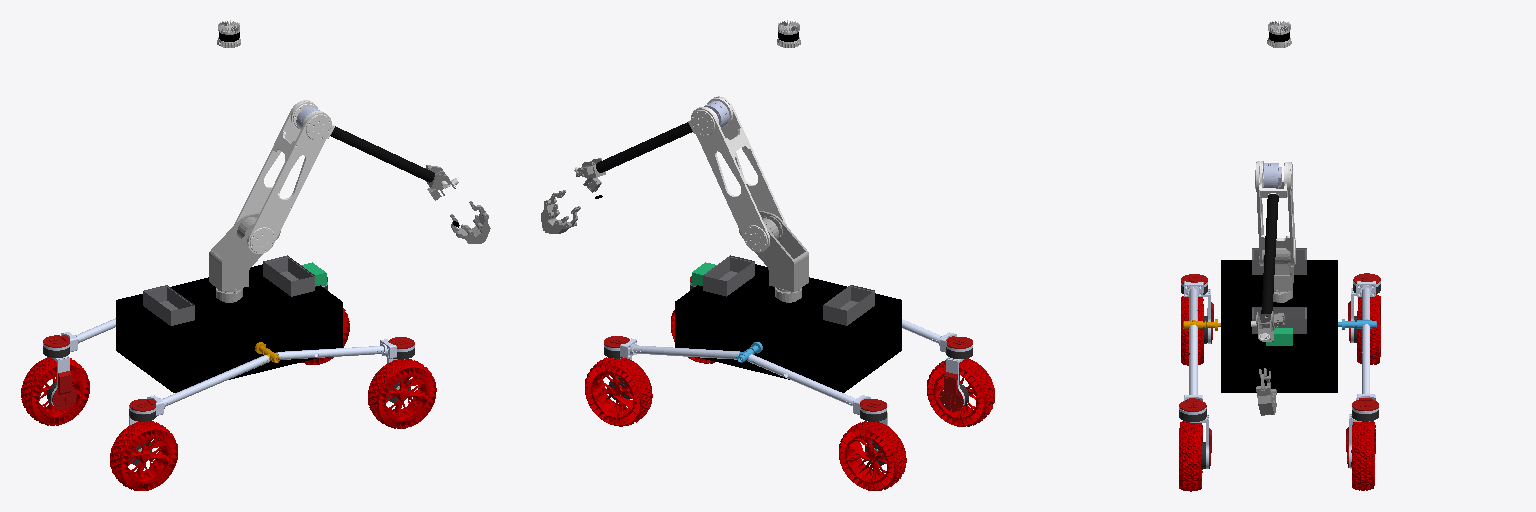
--- Render facts (derived) ---
Views: 3 orthographic renders of the robot side by side, from view 1: azimuth 30°, elevation 25°; view 2: azimuth 150°, elevation 25°; view 3: azimuth 270°, elevation 25°.
Model morpheus_rover with 29 links and 28 joints (14 revolute, 4 continuous, 10 fixed), rooted at chassis_link, posed every joint at zero.
Links seen in each view (by area): view 1: chassis_link, shoulder_link, wheel_rr_link, wheel_fr_link, arm_base_link, wheel_rl_link, elbow_link, strut_rr_link, strut_fr_link, sample_box_1_link, sample_box_2_link, strut_rl_link (+2 smaller); view 2: chassis_link, shoulder_link, wheel_rl_link, wheel_fl_link, arm_base_link, wheel_rr_link, elbow_link, strut_rl_link, strut_fl_link, sample_box_1_link, sample_box_2_link, strut_rr_link (+2 smaller); view 3: chassis_link, elbow_link, wheel_fl_link, wheel_fr_link, strut_fr_link, shoulder_link, strut_fl_link, arm_base_link, wheel_rl_link, wheel_rr_link, sample_box_1_link, strut_rr_link (+3 smaller).
Link boxes in pixels (x1,y1,x2,y2): chassis_link: (116,264,342,392); shoulder_link: (234,100,331,253); wheel_rr_link: (110,421,177,490); wheel_fr_link: (368,359,436,428); arm_base_link: (209,212,280,302); wheel_rl_link: (21,357,89,425); elbow_link: (291,101,434,182); strut_rr_link: (129,355,269,421); strut_fr_link: (276,337,414,359); sample_box_1_link: (263,255,314,296); sample_box_2_link: (143,285,194,325); strut_rl_link: (43,318,115,357); chassis_link: (675,264,901,392); shoulder_link: (691,96,786,252); wheel_rl_link: (839,421,906,490); wheel_fl_link: (585,357,652,426); arm_base_link: (739,211,808,302); wheel_rr_link: (927,358,994,426); elbow_link: (596,98,732,172); strut_rl_link: (748,354,886,421); strut_fl_link: (604,336,739,359); sample_box_1_link: (703,255,754,296); sample_box_2_link: (823,285,874,325); strut_rr_link: (902,319,972,358); chassis_link: (1221,260,1337,392); elbow_link: (1259,161,1287,316); wheel_fl_link: (1351,421,1375,490); wheel_fr_link: (1179,421,1202,491); strut_fr_link: (1179,325,1206,421); shoulder_link: (1255,161,1295,266); strut_fl_link: (1352,324,1378,421); arm_base_link: (1263,248,1293,302); wheel_rl_link: (1357,294,1380,364); wheel_rr_link: (1181,296,1203,365); sample_box_1_link: (1252,307,1306,333); strut_rr_link: (1181,274,1207,320).
Size in the robot's own frame: 1.71 by 0.728 by 1.59 metres.
Meshes: 15 distinct files referenced, 24 mesh visuals loaded (4 binary STL, 9 Collada DAE); not drawn: 2 (reference not matched to a file when rendering).

The robot description file, URDF, robot "morpheus_rover":
<?xml version="1.0" ?>
<!-- =================================================================================== -->
<!-- |    This document was autogenerated by xacro from robot.xacro                    | -->
<!-- |    EDITING THIS FILE BY HAND IS NOT RECOMMENDED                                 | -->
<!-- =================================================================================== -->
<robot name="morpheus_rover">
  <link name="chassis_link">
    <visual>
      <origin rpy="0.0 0.0 0.0" xyz="0.0 0.0 -0.12"/>
      <geometry>
        <box size="0.7 0.42 0.2"/>
      </geometry>
      <material name="">
        <color rgba="0.0 0.0 0.0 1.0"/>
      </material>
    </visual>
    <collision>
      <origin rpy="0.0 0.0 0.0" xyz="0.0 0.0 -0.12"/>
      <geometry>
        <box size="0.7 0.42 0.2"/>
      </geometry>
    </collision>
    <inertial>
      <origin xyz="-0.0037041613 0.0428197174 -0.1106721127"/>
      <mass value="27.0"/>
      <inertia ixx="0.6797017835" ixy="-0.0079907052" ixz="0.0127828566" iyy="1.2877765418" iyz="0.0117679376" izz="1.6878998816"/>
    </inertial>
  </link>
  <link name="shaft_left_link">
    <visual>
      <origin rpy="-1.5707963267948966 -1.5707963267948966 0.0" xyz="-0.1 0.0 -0.231"/>
      <geometry>
        <mesh filename="package://morpheus_description/urdf/01_robot_description/meshes/stl/shaft.stl"/>
      </geometry>
    </visual>
    <collision>
      <origin rpy="-1.571 -1.5707999999991324 0.0" xyz="-0.1 0.0 -0.231014"/>
      <geometry>
        <mesh filename="package://morpheus_description/urdf/01_robot_description/meshes/stl/shaft.stl"/>
      </geometry>
    </collision>
    <inertial>
      <origin xyz="-0.0002091194 1.32101e-05 0.0184469812"/>
      <mass value="0.75"/>
      <inertia ixx="0.0012178097" ixy="-5.6e-09" ixz="2.83456e-05" iyy="0.0008777415" iyz="1.4e-09" izz="0.0004882588"/>
    </inertial>
  </link>
  <joint name="shaft_left_joint" type="revolute">
    <origin rpy="1.5707999999991324 -1.5707900000007928 -3.1415899999999253" xyz="0.0 0.235014 -0.113"/>
    <parent link="chassis_link"/>
    <child link="shaft_left_link"/>
    <axis xyz="0.0 0.0 1.0"/>
    <limit effort="10.0" lower="-3.141592653589793" upper="3.141592653589793" velocity="10.0"/>
    <dynamics damping="0.7" friction="0.0"/>
  </joint>
  <link name="strut_fl_link">
    <visual>
      <origin rpy="-1.5707963267948966 -1.5707963267948966 0.0" xyz="-0.095 -0.03 -0.321"/>
      <geometry>
        <mesh filename="package://morpheus_description/urdf/01_robot_description/meshes/dae/strut.dae"/>
      </geometry>
    </visual>
    <collision>
      <origin rpy="-1.571 -1.5707999999991324 0.0" xyz="-0.0947906 -0.0295442 -0.320703"/>
      <geometry>
        <mesh filename="package://morpheus_description/urdf/01_robot_description/meshes/stl/strut.stl"/>
      </geometry>
    </collision>
    <inertial>
      <origin xyz="-0.0739820888 0.4431306277 -0.0142543342"/>
      <mass value="0.6"/>
      <inertia ixx="0.0120960241" ixy="0.0019557104" ixz="-1.01651e-05" iyy="0.0007162043" iyz="5.93325e-05" izz="0.0122581859"/>
    </inertial>
  </link>
  <joint name="strut_fl_joint" type="fixed">
    <origin rpy="0.0 0.0 0.0" xyz="-0.00520945 0.0295442 0.0899929"/>
    <parent link="shaft_left_link"/>
    <child link="strut_fl_link"/>
  </joint>
  <link name="steering_fl_link">
    <visual>
      <origin rpy="1.5707963267948966 0.0012042771838760874 0.0" xyz="-0.308 0.536 0.017"/>
      <geometry>
        <mesh filename="package://morpheus_description/urdf/01_robot_description/meshes/dae/steering.dae"/>
      </geometry>
    </visual>
    <collision>
      <origin rpy="1.571 0.0012006700002099185 0.0" xyz="-0.308035 0.536061 0.0167576"/>
      <geometry>
        <mesh filename="package://morpheus_description/urdf/01_robot_description/meshes/stl/steering.stl"/>
      </geometry>
    </collision>
    <inertial>
      <origin xyz="0.0004367622 0.0434819885 -0.1159842788"/>
      <mass value="1.6"/>
      <inertia ixx="0.0052279077" ixy="1.8091e-06" ixz="1.3286e-05" iyy="0.0053004683" iyz="0.0005027067" izz="0.0014735517"/>
    </inertial>
  </link>
  <joint name="steering_fl_joint" type="revolute">
    <origin rpy="-1.5695999999994064 -0.0015880299992990737 -1.5707999999991324" xyz="-0.111216 0.504597 -0.0155261"/>
    <parent link="strut_fl_link"/>
    <child link="steering_fl_link"/>
    <axis xyz="0.0 0.0 1.0"/>
    <limit effort="10.0" lower="-3.141592653589793" upper="3.141592653589793" velocity="10.0"/>
    <dynamics damping="0.7" friction="0.0"/>
  </joint>
  <link name="wheel_fl_link">
    <visual>
      <origin rpy="0.0 0.0 0.0" xyz="0.0 0.0 -0.04"/>
      <geometry>
        <mesh filename="package://morpheus_description/urdf/01_robot_description/meshes/dae/wheel.dae"/>
      </geometry>
    </visual>
    <collision>
      <origin rpy="0.0 0.0 0.0" xyz="0.0 0.0 -0.04"/>
      <geometry>
        <mesh filename="package://morpheus_description/urdf/01_robot_description/meshes/stl/wheel.stl"/>
      </geometry>
    </collision>
    <inertial>
      <origin xyz="0.0 -0.0002387564 -0.04"/>
      <mass value="1.4"/>
      <inertia ixx="0.0062960167" ixy="0.0" ixz="-1.7e-09" iyy="0.0062960234" iyz="0.0" izz="0.0111555186"/>
    </inertial>
  </link>
  <joint name="wheel_fl_joint" type="continuous">
    <origin rpy="1.5707999999991324 0.002023000000786 -0.026182653588951874" xyz="0.000859913 -0.0328387 -0.152"/>
    <parent link="steering_fl_link"/>
    <child link="wheel_fl_link"/>
    <axis xyz="0.0 0.0 1.0"/>
    <limit effort="10.0" lower="0.0" upper="0.0" velocity="10.0"/>
    <dynamics damping="0.0" friction="0.0"/>
  </joint>
  <link name="strut_rl_link">
    <visual>
      <origin rpy="-1.5707963267948966 -1.5707963267948966 0.0" xyz="-0.095 -0.03 -0.295"/>
      <geometry>
        <mesh filename="package://morpheus_description/urdf/01_robot_description/meshes/dae/strut.dae"/>
      </geometry>
    </visual>
    <collision>
      <origin rpy="-1.571 -1.5707999999991324 0.0" xyz="-0.0947906 -0.0295442 -0.295326"/>
      <geometry>
        <mesh filename="package://morpheus_description/urdf/01_robot_description/meshes/stl/strut.stl"/>
      </geometry>
    </collision>
    <inertial>
      <origin xyz="-0.0756316965 0.4736684486 0.0110207527"/>
      <mass value="0.6"/>
      <inertia ixx="0.0120903014" ixy="0.0019549161" ixz="-1.01621e-05" iyy="0.000716067" iyz="5.92839e-05" izz="0.0122522986"/>
    </inertial>
  </link>
  <joint name="strut_rl_joint" type="fixed">
    <origin rpy="3.1415899999999253 0.0 0.0" xyz="-0.00520945 -0.0295443 0.0899929"/>
    <parent link="shaft_left_link"/>
    <child link="strut_rl_link"/>
  </joint>
  <link name="steering_rl_link">
    <visual>
      <origin rpy="1.5707963267948966 0.0012042771838760874 0.0" xyz="-0.308 0.536 0.017"/>
      <geometry>
        <mesh filename="package://morpheus_description/urdf/01_robot_description/meshes/dae/steering.dae"/>
      </geometry>
    </visual>
    <collision>
      <origin rpy="1.571 0.0012006700002099185 0.0" xyz="-0.308035 0.536061 0.0167576"/>
      <geometry>
        <mesh filename="package://morpheus_description/urdf/01_robot_description/meshes/stl/steering.stl"/>
      </geometry>
    </collision>
    <inertial>
      <origin xyz="0.0004367622 0.0434819885 -0.1159842788"/>
      <mass value="1.6"/>
      <inertia ixx="0.0052279077" ixy="1.8091e-06" ixz="1.3286e-05" iyy="0.0053004683" iyz="0.0005027067" izz="0.0014735517"/>
    </inertial>
  </link>
  <joint name="steering_rl_joint" type="revolute">
    <origin rpy="1.5695999999994064 0.0015880299992990737 1.5707900000007928" xyz="-0.111216 0.504597 0.00985065"/>
    <parent link="strut_rl_link"/>
    <child link="steering_rl_link"/>
    <axis xyz="0.0 0.0 1.0"/>
    <limit effort="10.0" lower="-3.141592653589793" upper="3.141592653589793" velocity="10.0"/>
    <dynamics damping="0.7" friction="0.0"/>
  </joint>
  <link name="wheel_rl_link">
    <visual>
      <origin rpy="0.0 0.0 0.0" xyz="0.0 0.0 0.04"/>
      <geometry>
        <mesh filename="package://morpheus_description/urdf/01_robot_description/meshes/dae/wheel.dae"/>
      </geometry>
    </visual>
    <collision>
      <origin rpy="0.0 0.0 0.0" xyz="0.0 0.0 0.04"/>
      <geometry>
        <mesh filename="package://morpheus_description/urdf/01_robot_description/meshes/stl/wheel.stl"/>
      </geometry>
    </collision>
    <inertial>
      <origin xyz="0.0 -0.0002387564 0.04"/>
      <mass value="1.4"/>
      <inertia ixx="0.0062960167" ixy="0.0" ixz="-1.7e-09" iyy="0.0062960234" iyz="0.0" izz="0.0111555186"/>
    </inertial>
  </link>
  <joint name="wheel_rl_joint" type="continuous">
    <origin rpy="-1.5707999999991324 0.0020191899993887734 3.1154100000008413" xyz="0.000859913 0.0328387 -0.152"/>
    <parent link="steering_rl_link"/>
    <child link="wheel_rl_link"/>
    <axis xyz="0.0 0.0 1.0"/>
    <limit effort="10.0" lower="0.0" upper="0.0" velocity="10.0"/>
    <dynamics damping="0.0" friction="0.0"/>
  </joint>
  <link name="shaft_right_link">
    <visual>
      <origin rpy="-3.141592653589793 1.5707963267948966 0.0" xyz="0.0 0.1 0.231"/>
      <geometry>
        <mesh filename="package://morpheus_description/urdf/01_robot_description/meshes/stl/shaft.stl"/>
      </geometry>
    </visual>
    <collision>
      <origin rpy="-3.142 1.5707999999991324 0.0" xyz="0.0 0.1 0.231014"/>
      <geometry>
        <mesh filename="package://morpheus_description/urdf/01_robot_description/meshes/stl/shaft.stl"/>
      </geometry>
    </collision>
    <inertial>
      <origin xyz="-0.0002091194 1.32101e-05 0.0184469812"/>
      <mass value="0.75"/>
      <inertia ixx="0.0012178097" ixy="-5.6e-09" ixz="2.83456e-05" iyy="0.0008777415" iyz="1.4e-09" izz="0.0004882588"/>
    </inertial>
  </link>
  <joint name="shaft_right_joint" type="revolute">
    <origin rpy="-1.5707999999991324 0.0 0.0" xyz="8.1925e-05 -0.231256 -0.115299"/>
    <parent link="chassis_link"/>
    <child link="shaft_right_link"/>
    <axis xyz="0.0 0.0 1.0"/>
    <limit effort="10.0" lower="-3.141592653589793" upper="3.141592653589793" velocity="10.0"/>
    <dynamics damping="0.7" friction="0.0"/>
    <mimic joint="shaft_left_joint" multiplier="-1.0" offset="0.0"/>
  </joint>
  <link name="strut_fr_link">
    <visual>
      <origin rpy="-1.5707963267948966 -1.5707963267948966 0.0" xyz="-0.095 -0.03 -0.295"/>
      <geometry>
        <mesh filename="package://morpheus_description/urdf/01_robot_description/meshes/dae/strut.dae"/>
      </geometry>
    </visual>
    <collision>
      <origin rpy="-1.571 -1.5707999999991324 0.0" xyz="-0.0947906 -0.0295442 -0.295326"/>
      <geometry>
        <mesh filename="package://morpheus_description/urdf/01_robot_description/meshes/stl/strut.stl"/>
      </geometry>
    </collision>
    <inertial>
      <origin xyz="-0.0739820888 0.4431306277 0.0117456658"/>
      <mass value="0.6"/>
      <inertia ixx="0.0120960241" ixy="0.0019557104" ixz="-1.01651e-05" iyy="0.0007162043" iyz="5.93325e-05" izz="0.0122581859"/>
    </inertial>
  </link>
  <joint name="strut_fr_joint" type="fixed">
    <origin rpy="0.0 0.0 -1.5707999999991324" xyz="0.0295443 0.00520945 -0.0899929"/>
    <parent link="shaft_right_link"/>
    <child link="strut_fr_link"/>
  </joint>
  <link name="steering_fr_link">
    <visual>
      <origin rpy="1.5707963267948966 0.0012042771838760874 0.0" xyz="-0.308 0.536 0.017"/>
      <geometry>
        <mesh filename="package://morpheus_description/urdf/01_robot_description/meshes/dae/steering.dae"/>
      </geometry>
    </visual>
    <collision>
      <origin rpy="1.571 0.0012006700002099185 0.0" xyz="-0.308035 0.536061 0.0167576"/>
      <geometry>
        <mesh filename="package://morpheus_description/urdf/01_robot_description/meshes/stl/steering.stl"/>
      </geometry>
    </collision>
    <inertial>
      <origin xyz="0.0004367622 0.0434819885 -0.1159842788"/>
      <mass value="1.6"/>
      <inertia ixx="0.0052279077" ixy="1.8091e-06" ixz="1.3286e-05" iyy="0.0053004683" iyz="0.0005027067" izz="0.0014735517"/>
    </inertial>
  </link>
  <joint name="steering_fr_joint" type="revolute">
    <origin rpy="-1.5695899999993215 3.141592653589793 -1.5707600000005377" xyz="-0.111216 0.504597 0.00985065"/>
    <parent link="strut_fr_link"/>
    <child link="steering_fr_link"/>
    <axis xyz="0.0 0.0 1.0"/>
    <limit effort="10.0" lower="-3.141592653589793" upper="3.141592653589793" velocity="10.0"/>
    <dynamics damping="0.7" friction="0.0"/>
  </joint>
  <link name="wheel_fr_link">
    <visual>
      <origin rpy="0.0 0.0 0.0" xyz="0.0 0.0 -0.04"/>
      <geometry>
        <mesh filename="package://morpheus_description/urdf/01_robot_description/meshes/dae/wheel.dae"/>
      </geometry>
    </visual>
    <collision>
      <origin rpy="0.0 0.0 0.0" xyz="0.0 0.0 -0.04"/>
      <geometry>
        <mesh filename="package://morpheus_description/urdf/01_robot_description/meshes/stl/wheel.stl"/>
      </geometry>
    </collision>
    <inertial>
      <origin xyz="0.0 -0.0002387564 -0.04"/>
      <mass value="1.4"/>
      <inertia ixx="0.0062960167" ixy="0.0" ixz="-1.7e-09" iyy="0.0062960234" iyz="0.0" izz="0.0111555186"/>
    </inertial>
  </link>
  <joint name="wheel_fr_joint" type="continuous">
    <origin rpy="-1.5707999999991324 0.00442516999951294 -0.026179900000444293" xyz="0.000859913 0.0328387 -0.152"/>
    <parent link="steering_fr_link"/>
    <child link="wheel_fr_link"/>
    <axis xyz="0.0 0.0 1.0"/>
    <limit effort="10.0" lower="0.0" upper="0.0" velocity="10.0"/>
    <dynamics damping="0.0" friction="0.0"/>
  </joint>
  <link name="strut_rr_link">
    <visual>
      <origin rpy="-1.5707963267948966 -1.5707963267948966 0.0" xyz="-0.095 -0.03 -0.321"/>
      <geometry>
        <mesh filename="package://morpheus_description/urdf/01_robot_description/meshes/dae/strut.dae"/>
      </geometry>
    </visual>
    <collision>
      <origin rpy="-1.571 -1.5707999999991324 0.0" xyz="-0.0947906 -0.0295442 -0.320703"/>
      <geometry>
        <mesh filename="package://morpheus_description/urdf/01_robot_description/meshes/stl/strut.stl"/>
      </geometry>
    </collision>
    <inertial>
      <origin xyz="-0.0756316965 0.4736684486 -0.0149792473"/>
      <mass value="0.6"/>
      <inertia ixx="0.0120903014" ixy="0.0019549161" ixz="-1.01621e-05" iyy="0.000716067" iyz="5.92839e-05" izz="0.0122522986"/>
    </inertial>
  </link>
  <joint name="strut_rr_joint" type="fixed">
    <origin rpy="-3.1415899999999253 0.0 -1.5707999999991324" xyz="-0.0295442 0.00520945 -0.0899929"/>
    <parent link="shaft_right_link"/>
    <child link="strut_rr_link"/>
  </joint>
  <link name="steering_rr_link">
    <visual>
      <origin rpy="1.5707963267948966 0.0012042771838760874 0.0" xyz="-0.308 0.536 0.017"/>
      <geometry>
        <mesh filename="package://morpheus_description/urdf/01_robot_description/meshes/dae/steering.dae"/>
      </geometry>
    </visual>
    <collision>
      <origin rpy="1.571 0.0012006700002099185 0.0" xyz="-0.308035 0.536061 0.0167576"/>
      <geometry>
        <mesh filename="package://morpheus_description/urdf/01_robot_description/meshes/stl/steering.stl"/>
      </geometry>
    </collision>
    <inertial>
      <origin xyz="0.0008678457 0.0453345829 -0.1283715226"/>
      <mass value="1.6"/>
      <inertia ixx="0.0052284237" ixy="1.7963e-06" ixz="1.34245e-05" iyy="0.0053013768" iyz="0.0005026464" izz="0.0014739211"/>
    </inertial>
  </link>
  <joint name="steering_rr_joint" type="revolute">
    <origin rpy="1.5695899999993215 3.107946953589153 1.5708399999994722" xyz="-0.111216 0.504597 -0.0155261"/>
    <parent link="strut_rr_link"/>
    <child link="steering_rr_link"/>
    <axis xyz="0.0 0.0 1.0"/>
    <limit effort="10.0" lower="-3.141592653589793" upper="3.141592653589793" velocity="10.0"/>
    <dynamics damping="0.7" friction="0.0"/>
  </joint>
  <link name="wheel_rr_link">
    <visual>
      <origin rpy="0.0 0.0 0.0" xyz="0.0 0.0 -0.04"/>
      <geometry>
        <mesh filename="package://morpheus_description/urdf/01_robot_description/meshes/dae/wheel.dae"/>
      </geometry>
    </visual>
    <collision>
      <origin rpy="0.0 0.0 0.0" xyz="0.0 0.0 -0.04"/>
      <geometry>
        <mesh filename="package://morpheus_description/urdf/01_robot_description/meshes/stl/wheel.stl"/>
      </geometry>
    </collision>
    <inertial>
      <origin xyz="0.0001576409 -0.0006915734 -0.0400513418"/>
      <mass value="1.4"/>
      <inertia ixx="0.0063063969" ixy="6.7586e-06" ixz="2.6546e-06" iyy="0.0062998989" iyz="-2.919e-06" izz="0.0111226164"/>
    </inertial>
  </link>
  <joint name="wheel_rr_joint" type="continuous">
    <origin rpy="-1.5707999999991324 0.004421350000869758 -0.026179900000444293" xyz="0.000859913 0.0328387 -0.152"/>
    <parent link="steering_rr_link"/>
    <child link="wheel_rr_link"/>
    <axis xyz="0.0 0.0 1.0"/>
    <limit effort="10.0" lower="0.0" upper="0.0" velocity="10.0"/>
    <dynamics damping="0.0" friction="0.0"/>
  </joint>
  <link name="arm_base_link">
    <visual>
      <origin rpy="-1.5707963267948966 0.0 0.0" xyz="0.0 -0.001 0.188"/>
      <geometry>
        <mesh filename="package://morpheus_description/urdf/01_robot_description/meshes/stl/arm_base.stl"/>
      </geometry>
    </visual>
    <collision>
      <origin rpy="-1.571 0.0 0.0" xyz="0.0 -0.00128427 0.1875"/>
      <geometry>
        <mesh filename="package://morpheus_description/urdf/01_robot_description/meshes/stl/arm_base.stl"/>
      </geometry>
    </collision>
    <inertial>
      <origin xyz="0.002265802 0.0388509186 -0.1131686562"/>
      <mass value="1.8"/>
      <inertia ixx="0.0162321151" ixy="0.0002721762" ixz="-0.0002677049" iyy="0.0113995852" iyz="0.0047454194" izz="0.0077692693"/>
    </inertial>
  </link>
  <joint name="arm_base_joint" type="revolute">
    <origin rpy="3.1415899999999253 0.0 1.5707999999991324" xyz="0.0 0.0 0.0"/>
    <parent link="chassis_link"/>
    <child link="arm_base_link"/>
    <axis xyz="0.0 0.0 1.0"/>
    <limit effort="10000000.0" lower="-1.5699999999993148" upper="1.5699999999993148" velocity="0.5"/>
    <dynamics damping="0.7" friction="0.0"/>
  </joint>
  <link name="shoulder_link">
    <visual>
      <origin rpy="0.0 0.0 0.0" xyz="0.0 0.0 0.116"/>
      <geometry>
        <mesh filename="package://morpheus_description/urdf/01_robot_description/meshes/stl/shoulder.stl"/>
      </geometry>
      <material name="">
        <color rgba="0.9137254901960784 0.9137254901960784 0.9137254901960784 1.0"/>
      </material>
    </visual>
    <collision>
      <origin rpy="0.0 0.0 0.0" xyz="0.0 0.0 0.116"/>
      <geometry>
        <mesh filename="package://morpheus_description/urdf/01_robot_description/meshes/stl/shoulder.stl"/>
      </geometry>
    </collision>
    <inertial>
      <origin xyz="-0.1133303587 -0.2007144336 0.0548130181"/>
      <mass value="1.02"/>
      <inertia ixx="0.0209879592" ixy="-0.010495222" ixz="-5e-10" iyy="0.0083347477" iyz="-9e-10" izz="0.0264722807"/>
    </inertial>
  </link>
  <joint name="shoulder_joint" type="revolute">
    <origin rpy="1.5707999999991324 0.0 -1.5147899999996166" xyz="0.0441836 0.103854 -0.2255"/>
    <parent link="arm_base_link"/>
    <child link="shoulder_link"/>
    <axis xyz="0.0 0.0 1.0"/>
    <limit effort="100.0" lower="-1.5699999999993148" upper="1.5699999999993148" velocity="0.5"/>
    <dynamics damping="0.7" friction="0.0"/>
  </joint>
  <link name="elbow_link">
    <visual>
      <origin rpy="0.0 -1.5147887110983984 0.0" xyz="0.249 -0.096 -0.168"/>
      <geometry>
        <mesh filename="package://morpheus_description/urdf/01_robot_description/meshes/dae/elbow.dae"/>
      </geometry>
    </visual>
    <collision>
      <origin rpy="0.0 -1.5147899999996166 0.0" xyz="0.248798 -0.0958362 -0.167947"/>
      <geometry>
        <mesh filename="package://morpheus_description/urdf/01_robot_description/meshes/stl/elbow.stl"/>
      </geometry>
    </collision>
    <inertial>
      <origin xyz="-0.0050238328 -0.0036067228 -0.05513227"/>
      <mass value="0.6"/>
      <inertia ixx="0.0052896889" ixy="-0.0067539224" ixz="-1.75e-08" iyy="0.0107921785" iyz="-1.25e-08" izz="0.0153491622"/>
    </inertial>
  </link>
  <joint name="elbow_joint" type="revolute">
    <origin rpy="3.1415899999999253 0.0 0.0" xyz="-0.226229 -0.400525 0.0"/>
    <parent link="shoulder_link"/>
    <child link="elbow_link"/>
    <axis xyz="0.0 0.0 1.0"/>
    <limit effort="100.0" lower="-1.5699999999993148" upper="1.5699999999993148" velocity="0.5"/>
    <dynamics damping="0.7" friction="0.0"/>
  </joint>
  <link name="wrist_1_link">
    <visual>
      <origin rpy="2.2919663737189535 0.004328416544945937 0.0" xyz="-0.072 1.339 0.005"/>
      <geometry>
        <mesh filename="package://morpheus_description/urdf/01_robot_description/meshes/dae/wrist_1.dae"/>
      </geometry>
    </visual>
    <collision>
      <origin rpy="2.292 0.0043248200008068885 0.0" xyz="-0.0722471 1.33888 0.00527916"/>
      <geometry>
        <mesh filename="package://morpheus_description/urdf/01_robot_description/meshes/stl/wrist_1.stl"/>
      </geometry>
    </collision>
    <inertial>
      <origin xyz="-0.0132893283 -0.0069919863 -0.0370681388"/>
      <mass value="0.08"/>
      <inertia ixx="3.79839e-05" ixy="9.4919e-06" ixz="-2.2042e-06" iyy="8.48249e-05" iyz="-3.16e-07" izz="9.01278e-05"/>
    </inertial>
  </link>
  <joint name="wrist_1_joint" type="revolute">
    <origin rpy="-1.5707999999991324 -1.5395200000003404 -0.978813999999683" xyz="-0.485454 -0.326434 -0.05"/>
    <parent link="elbow_link"/>
    <child link="wrist_1_link"/>
    <axis xyz="0.0 0.0 1.0"/>
    <limit effort="10.0" lower="-1.5699999999993148" upper="1.5699999999993148" velocity="0.5"/>
    <dynamics damping="0.7" friction="0.0"/>
  </joint>
  <link name="wrist_2_link">
    <visual>
      <origin rpy="-2.3987456173559663 1.3738533739998564 0.0" xyz="0.89 -0.214 -0.131"/>
      <geometry>
        <mesh filename="package://morpheus_description/urdf/01_robot_description/meshes/dae/wrist_2.dae"/>
      </geometry>
    </visual>
    <collision>
      <origin rpy="-2.399 1.3738499999991596 0.0" xyz="0.889902 -0.21445 -0.131159"/>
      <geometry>
        <mesh filename="package://morpheus_description/urdf/01_robot_description/meshes/stl/wrist_2.stl"/>
      </geometry>
    </collision>
    <inertial>
      <origin xyz="0.0059561146 0.049056893 0.0006383682"/>
      <mass value="0.08"/>
      <inertia ixx="4.96495e-05" ixy="9.0534e-06" ixz="-1.205e-07" iyy="6.44478e-05" iyz="-9.71e-08" izz="8.47334e-05"/>
    </inertial>
  </link>
  <joint name="wrist_2_joint" type="revolute">
    <origin rpy="-1.5707999999991324 0.022103900000362674 1.3738999999995847" xyz="-0.00138273 -0.00999864 -0.037604"/>
    <parent link="wrist_1_link"/>
    <child link="wrist_2_link"/>
    <axis xyz="0.0 0.0 1.0"/>
    <limit effort="10.0" lower="-1.5699999999993148" upper="1.5699999999993148" velocity="0.5"/>
    <dynamics damping="0.7" friction="0.0"/>
  </joint>
  <link name="wrist_3_link">
    <visual>
      <origin rpy="-2.864975420441212 -0.17638297420654694 0.0" xyz="0.046 0.154 1.012"/>
      <geometry>
        <mesh filename="package://morpheus_description/urdf/01_robot_description/meshes/dae/wrist_3.dae"/>
      </geometry>
    </visual>
    <collision>
      <origin rpy="-2.865 -0.17638300000076795 0.0" xyz="0.0463147 0.153846 1.01185"/>
      <geometry>
        <mesh filename="package://morpheus_description/urdf/01_robot_description/meshes/stl/wrist_3.stl"/>
      </geometry>
    </collision>
    <inertial>
      <origin xyz="0.0010284481 0.1028040545 -0.0212436634"/>
      <mass value="0.05"/>
      <inertia ixx="0.0001637515" ixy="8.465e-07" ixz="4.77e-08" iyy="7.49074e-05" iyz="7.012e-07" izz="0.0001358161"/>
    </inertial>
  </link>
  <joint name="wrist_3_joint" type="revolute">
    <origin rpy="1.5707999999991324 1.5095100000001238 1.1123600000004843" xyz="0.0400622 0.0359864 0.0006"/>
    <parent link="wrist_2_link"/>
    <child link="wrist_3_link"/>
    <axis xyz="0.0 0.0 1.0"/>
    <limit effort="10.0" lower="-1.5699999999993148" upper="1.5699999999993148" velocity="0.5"/>
    <dynamics damping="0.7" friction="0.0"/>
  </joint>
  <link name="gripper_left_link">
    <visual>
      <origin rpy="-2.3887797873270786 1.3777105516467638 0.0" xyz="0.66 -0.212 0.595"/>
      <geometry>
        <mesh filename="package://morpheus_description/urdf/01_robot_description/meshes/dae/gripper_left.dae"/>
      </geometry>
    </visual>
    <collision>
      <origin rpy="-2.389 1.3777100000005473 0.0" xyz="0.659694 -0.211521 0.595012"/>
      <geometry>
        <mesh filename="package://morpheus_description/urdf/01_robot_description/meshes/stl/gripper_left.stl"/>
      </geometry>
    </collision>
    <inertial>
      <origin xyz="0.0323038354 0.050833515 0.005984972"/>
      <mass value="0.01"/>
      <inertia ixx="1.05006e-05" ixy="-6.5157e-06" ixz="-0.0" iyy="9.9021e-06" iyz="-0.0" izz="1.67378e-05"/>
    </inertial>
  </link>
  <joint name="gripper_left_joint" type="revolute">
    <origin rpy="-1.5803600000000912 -1.1025699999993164 1.491260000000364" xyz="0.004743 0.123063 -0.0638803"/>
    <parent link="wrist_3_link"/>
    <child link="gripper_left_link"/>
    <axis xyz="0.0 0.0 1.0"/>
    <limit effort="10.0" lower="-0.299999999999569" upper="0.299999999999569" velocity="0.5"/>
    <dynamics damping="0.7" friction="0.0"/>
  </joint>
  <link name="gripper_right_link">
    <visual>
      <origin rpy="-2.3887797873270786 1.3777105516467638 0.0" xyz="0.832 -0.256 0.34"/>
      <geometry>
        <mesh filename="package://morpheus_description/urdf/01_robot_description/meshes/dae/gripper_right.dae"/>
      </geometry>
    </visual>
    <collision>
      <origin rpy="-2.389 1.3777100000005473 0.0" xyz="0.832297 -0.255954 0.339569"/>
      <geometry>
        <mesh filename="package://morpheus_description/urdf/01_robot_description/meshes/stl/gripper_right.stl"/>
      </geometry>
    </collision>
    <inertial>
      <origin xyz="0.022069611 0.0561365687 0.0065971916"/>
      <mass value="0.01"/>
      <inertia ixx="0.0001633315" ixy="-2.22386e-05" ixz="-5.63e-08" iyy="4.06958e-05" iyz="-1.671e-07" izz="0.0001673785"/>
    </inertial>
  </link>
  <joint name="gripper_right_joint" type="revolute">
    <origin rpy="-1.5803600000000912 -1.1025699999993164 1.491260000000364" xyz="0.00437986 0.123095 0.0205453"/>
    <parent link="wrist_3_link"/>
    <child link="gripper_right_link"/>
    <axis xyz="0.0 0.0 1.0"/>
    <limit effort="10.0" lower="-0.299999999999569" upper="0.299999999999569" velocity="0.5"/>
    <dynamics damping="0.7" friction="0.0"/>
    <mimic joint="gripper_left_joint" multiplier="-1.0" offset="0.0"/>
  </joint>
  <link name="drill_link">
    <visual>
      <origin rpy="0.0 0.0 0.0" xyz="0.0 0.0 0.0"/>
      <geometry>
        <mesh filename="package://morpheus_description/urdf/01_robot_description/meshes/stl/drill.stl"/>
      </geometry>
    </visual>
    <collision>
      <origin rpy="0.0 0.0 0.0" xyz="0.0 0.0 0.0"/>
      <geometry>
        <mesh filename="package://morpheus_description/urdf/01_robot_description/meshes/stl/drill.stl"/>
      </geometry>
    </collision>
    <inertial>
      <origin xyz="0.0110555086 -0.0108942012 -0.8822038577"/>
      <mass value="0.15"/>
      <inertia ixx="0.0040102345" ixy="2.5998e-05" ixz="0.0001236482" iyy="0.0038324694" iyz="-8.29973e-05" izz="0.000326035"/>
    </inertial>
  </link>
  <joint name="drill_joint" type="fixed">
    <origin rpy="3.141592653589793 0.0 -1.5707963267948966" xyz="-0.375 0.145 -0.765"/>
    <parent link="chassis_link"/>
    <child link="drill_link"/>
  </joint>
  <link name="sample_box_1_link">
    <visual>
      <origin rpy="0.0 0.0 1.5707963267948966" xyz="0.0 0.0 0.01"/>
      <geometry>
        <mesh filename="package://morpheus_description/urdf/01_robot_description/meshes/stl/sample_box.stl"/>
      </geometry>
      <material name="">
        <color rgba="0.4666666666666667 0.4627450980392157 0.4823529411764706 1.0"/>
      </material>
    </visual>
    <collision>
      <origin rpy="0.0 0.0 1.5707963267948966" xyz="0.0 0.0 0.0"/>
      <geometry>
        <mesh filename="package://morpheus_description/urdf/01_robot_description/meshes/stl/sample_box.stl"/>
      </geometry>
    </collision>
    <inertial>
      <origin xyz="0.0 0.0 0.0047360703"/>
      <mass value="0.2"/>
      <inertia ixx="0.0007266667" ixy="0.0" ixz="0.0" iyy="0.0002266667" iyz="0.0" izz="0.0008333334"/>
    </inertial>
  </link>
  <joint name="sample_box_1_joint" type="fixed">
    <origin rpy="0.0 0.0 0.0" xyz="0.25 0.0 0.01"/>
    <parent link="chassis_link"/>
    <child link="sample_box_1_link"/>
  </joint>
  <link name="sample_box_2_link">
    <visual>
      <origin rpy="0.0 0.0 1.5707963267948966" xyz="0.0 0.0 0.01"/>
      <geometry>
        <mesh filename="package://morpheus_description/urdf/01_robot_description/meshes/stl/sample_box.stl"/>
      </geometry>
      <material name="">
        <color rgba="0.4666666666666667 0.4627450980392157 0.4823529411764706 1.0"/>
      </material>
    </visual>
    <collision>
      <origin rpy="0.0 0.0 1.5707963267948966" xyz="0.0 0.0 0.0"/>
      <geometry>
        <mesh filename="package://morpheus_description/urdf/01_robot_description/meshes/stl/sample_box.stl"/>
      </geometry>
    </collision>
    <inertial>
      <origin xyz="0.0 0.0 0.0047360703"/>
      <mass value="0.2"/>
      <inertia ixx="0.0007266667" ixy="0.0" ixz="0.0" iyy="0.0002266667" iyz="0.0" izz="0.0008333334"/>
    </inertial>
  </link>
  <joint name="sample_box_2_joint" type="fixed">
    <origin rpy="0.0 0.0 0.0" xyz="-0.25 0.0 0.01"/>
    <parent link="chassis_link"/>
    <child link="sample_box_2_link"/>
  </joint>
  <link name="zed_mini_link">
    <visual>
      <origin rpy="0.0 1.5707963267948966 0.0" xyz="0.0 0.0 0.0"/>
      <geometry>
        <box size="0.02 0.02 0.01"/>
      </geometry>
      <material name="">
        <color rgba="0.0 0.0 0.0 1.0"/>
      </material>
    </visual>
    <collision>
      <origin rpy="0.0 0.0 0.0" xyz="0.0 0.0 0.0"/>
      <geometry>
        <box size="0.02 0.02 0.01"/>
      </geometry>
    </collision>
    <inertial>
      <origin xyz="0.0 0.0 0.0"/>
      <mass value="0.08"/>
      <inertia ixx="5.3333e-06" ixy="0.0" ixz="0.0" iyy="3.3333e-06" iyz="0.0" izz="3.3333e-06"/>
    </inertial>
  </link>
  <joint name="zed_mini_joint" type="fixed">
    <origin rpy="0.0 0.0 0.0" xyz="0.1 0.1 0.1"/>
    <parent link="wrist_2_link"/>
    <child link="zed_mini_link"/>
  </joint>
  <link name="os0_lidar_link">
    <visual>
      <origin rpy="0.0 0.0 0.0" xyz="0.0 0.0 0.0"/>
      <geometry>
        <mesh filename="package://morpheus_description/urdf/01_robot_description/meshes/dae/os0_lidar.dae"/>
      </geometry>
    </visual>
    <collision>
      <origin rpy="0.0 0.0 0.0" xyz="0.0 0.0 0.0"/>
      <geometry>
        <box size="0.5 0.5 0.5"/>
      </geometry>
    </collision>
    <inertial>
      <origin xyz="-0.0178636494 -0.0004425342 0.0269007094"/>
      <mass value="0.4"/>
      <inertia ixx="0.0003556192" ixy="-3.2e-09" ixz="-3.3913e-06" iyy="0.0003538593" iyz="-8.6e-09" izz="0.0003519074"/>
    </inertial>
  </link>
  <joint name="os0_lidar_joint" type="fixed">
    <origin rpy="0.0 0.0 0.0" xyz="0.0 0.0 1.0"/>
    <parent link="chassis_link"/>
    <child link="os0_lidar_link"/>
  </joint>
  <link name="zed_2i_link">
    <visual>
      <origin rpy="0.0 0.0 0.0" xyz="0.0 0.0 0.0"/>
      <geometry>
        <box size="0.05 0.1 0.05"/>
      </geometry>
      <material name="">
        <color rgba="0.1803921568627451 0.7607843137254902 0.49411764705882355 1.0"/>
      </material>
    </visual>
    <collision>
      <origin rpy="0.0 0.0 0.0" xyz="0.0 0.0 0.0"/>
      <geometry>
        <box size="0.5 0.5 0.5"/>
      </geometry>
    </collision>
    <inertial>
      <origin xyz="0.0 0.0 0.0"/>
      <mass value="1.0"/>
      <inertia ixx="1.0" ixy="0.0" ixz="0.0" iyy="1.0" iyz="0.0" izz="1.0"/>
    </inertial>
  </link>
  <joint name="zed_2i_joint" type="fixed">
    <origin rpy="0.0 0.0 0.0" xyz="0.35 0.0 0.0"/>
    <parent link="chassis_link"/>
    <child link="zed_2i_link"/>
  </joint>
  <gazebo>
    <plugin filename="ign_ros2_control-system" name="ign_ros2_control::IgnitionROS2ControlPlugin">
      <parameters>[local-path]/Documents/Abgabe/morpheus_ws/install/morpheus_description/share/morpheus_description/urdf/03_ros2_control/morpheus_control.yaml</parameters>
    </plugin>
    <plugin filename="gz-sim-sensors-system" name="gz::sim::systems::Sensors">
      <render_engine>ogre2</render_engine>
    </plugin>
  </gazebo>
  <gazebo reference="os0_lidar_link">
    <sensor name="os0_lidar" type="gpu_lidar">
      <pose>0.0 0.0 0.0 0.0 0.0 0.0</pose>
      <topic>/scan</topic>
      <update_rate>10</update_rate>
      <always_on>True</always_on>
      <visualize>True</visualize>
      <gz_frame_id>chassis_link</gz_frame_id>
      <lidar>
        <scan>
          <horizontal>
            <samples>128.0</samples>
            <resolution>1.0</resolution>
            <min_angle>-3.16</min_angle>
            <max_angle>3.1400218572629983</max_angle>
          </horizontal>
          <vertical>
            <samples>128</samples>
            <resolution>1</resolution>
            <min_angle>-0.78</min_angle>
            <max_angle>78</max_angle>
          </vertical>
        </scan>
        <range>
          <min>1.0</min>
          <max>10.0</max>
        </range>
      </lidar>
    </sensor>
  </gazebo>
  <gazebo reference="chassis_link">
    <sensor name="imu_1" type="imu">
      <pose>0.0 0.0 0.0 0.0 0.0 0.0</pose>
      <gz_frame_id>chassis_link</gz_frame_id>
      <topic>/imu</topic>
      <update_rate>10</update_rate>
      <always_on>True</always_on>
      <visualize>True</visualize>
    </sensor>
  </gazebo>
  <gazebo reference="zed_mini_link">
    <sensor name="zed_mini" type="camera">
      <pose>0.0 0.0 0.0 0.0 0.0 0.0</pose>
      <gz_frame_id>chassis_link</gz_frame_id>
      <topic>/camera_mini</topic>
      <update_rate>10</update_rate>
      <always_on>False</always_on>
      <visualize>False</visualize>
      <camera>
        <horizontal_fov>1.78</horizontal_fov>
        <image>
          <width>1920.00</width>
          <height>1080.00</height>
        </image>
        <clip>
          <near>0.02</near>
          <far>10.00</far>
        </clip>
      </camera>
    </sensor>
  </gazebo>
  <gazebo reference="zed_2i_link">
    <sensor name="zed_2i" type="camera">
      <pose>0.0 0.0 0.0 0.0 0.0 0.0</pose>
      <gz_frame_id>chassis_link</gz_frame_id>
      <topic>/camera_2i</topic>
      <update_rate>10</update_rate>
      <always_on>True</always_on>
      <visualize>True</visualize>
      <camera>
        <horizontal_fov>1.91</horizontal_fov>
        <image>
          <width>1920.00</width>
          <height>1080.00</height>
        </image>
        <clip>
          <near>0.02</near>
          <far>40.00</far>
        </clip>
      </camera>
    </sensor>
  </gazebo>
  <ros2_control name="morpheus_resource_manager" type="system">
    <hardware>
      <plugin>ign_ros2_control/IgnitionSystem</plugin>
    </hardware>
    <joint name="arm_base_joint">
      <command_interface name="position"/>
      <state_interface name="position"/>
      <state_interface name="velocity"/>
      <state_interface name="effort"/>
    </joint>
    <joint name="elbow_joint">
      <command_interface name="position"/>
      <state_interface name="position"/>
      <state_interface name="velocity"/>
      <state_interface name="effort"/>
    </joint>
    <joint name="gripper_left_joint">
      <command_interface name="position"/>
      <state_interface name="position"/>
      <state_interface name="velocity"/>
      <state_interface name="effort"/>
    </joint>
    <joint name="gripper_right_joint">
      <command_interface name="position"/>
      <param name="mimic">gripper_left_joint</param>
      <param name="multiplier">-1.0</param>
      <param name="offset">gripper_left_joint</param>
      <state_interface name="position"/>
      <state_interface name="velocity"/>
      <state_interface name="effort"/>
    </joint>
    <joint name="shaft_left_joint">
      <command_interface name="position"/>
      <state_interface name="position"/>
      <state_interface name="velocity"/>
      <state_interface name="effort"/>
    </joint>
    <joint name="shaft_right_joint">
      <command_interface name="position"/>
      <param name="mimic">shaft_left_joint</param>
      <param name="multiplier">-1.0</param>
      <param name="offset">0.0</param>
      <state_interface name="position"/>
      <state_interface name="velocity"/>
      <state_interface name="effort"/>
    </joint>
    <joint name="shoulder_joint">
      <command_interface name="position"/>
      <state_interface name="position"/>
      <state_interface name="velocity"/>
      <state_interface name="effort"/>
    </joint>
    <joint name="steering_fl_joint">
      <command_interface name="position"/>
      <state_interface name="position"/>
      <state_interface name="velocity"/>
      <state_interface name="effort"/>
    </joint>
    <joint name="steering_fr_joint">
      <command_interface name="position"/>
      <state_interface name="position"/>
      <state_interface name="velocity"/>
      <state_interface name="effort"/>
    </joint>
    <joint name="steering_rl_joint">
      <command_interface name="position"/>
      <state_interface name="position"/>
      <state_interface name="velocity"/>
      <state_interface name="effort"/>
    </joint>
    <joint name="steering_rr_joint">
      <command_interface name="position"/>
      <state_interface name="position"/>
      <state_interface name="velocity"/>
      <state_interface name="effort"/>
    </joint>
    <joint name="wheel_fl_joint">
      <command_interface name="velocity"/>
      <state_interface name="position"/>
      <state_interface name="velocity"/>
      <state_interface name="effort"/>
    </joint>
    <joint name="wheel_fr_joint">
      <command_interface name="velocity"/>
      <state_interface name="position"/>
      <state_interface name="velocity"/>
      <state_interface name="effort"/>
    </joint>
    <joint name="wheel_rl_joint">
      <command_interface name="velocity"/>
      <state_interface name="position"/>
      <state_interface name="velocity"/>
      <state_interface name="effort"/>
    </joint>
    <joint name="wheel_rr_joint">
      <command_interface name="velocity"/>
      <state_interface name="position"/>
      <state_interface name="velocity"/>
      <state_interface name="effort"/>
    </joint>
    <joint name="wrist_1_joint">
      <command_interface name="position"/>
      <state_interface name="position"/>
      <state_interface name="velocity"/>
      <state_interface name="effort"/>
    </joint>
    <joint name="wrist_2_joint">
      <command_interface name="position"/>
      <state_interface name="position"/>
      <state_interface name="velocity"/>
      <state_interface name="effort"/>
    </joint>
    <joint name="wrist_3_joint">
      <command_interface name="position"/>
      <state_interface name="position"/>
      <state_interface name="velocity"/>
      <state_interface name="effort"/>
    </joint>
  </ros2_control>
</robot>
